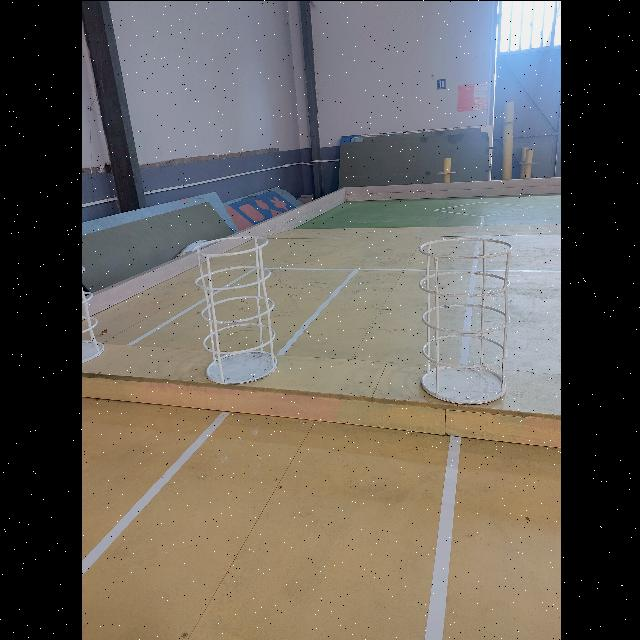S: (412, 233, 514, 404), (190, 233, 280, 385), (80, 258, 102, 364)
